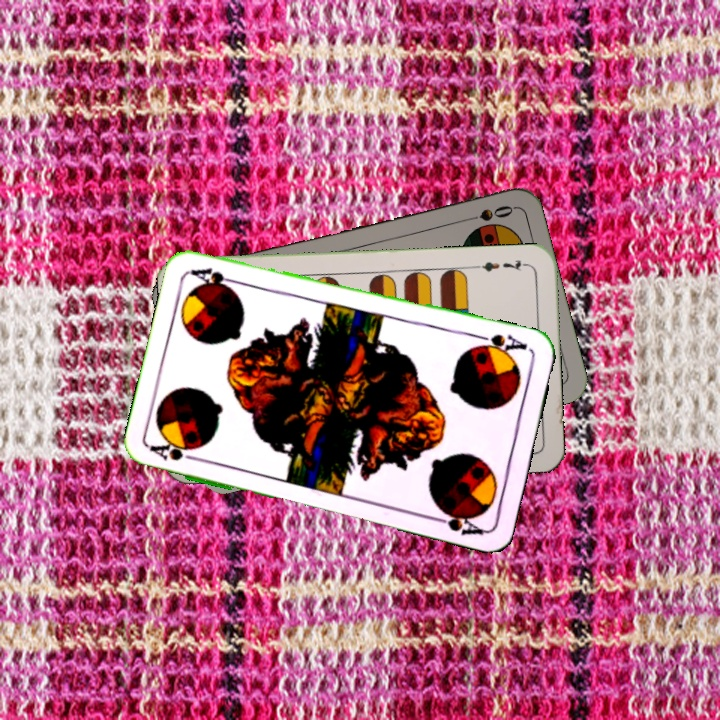E7: (472, 255, 531, 274)
SA: (470, 330, 530, 358), (146, 438, 205, 465)
SO: (457, 201, 516, 225)
